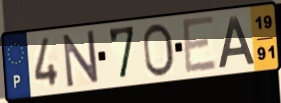4: (32, 35, 61, 91)
7: (107, 25, 137, 83)
A: (216, 14, 257, 71)
E: (180, 14, 219, 77)
N: (61, 28, 101, 90)
O: (141, 22, 177, 80)
